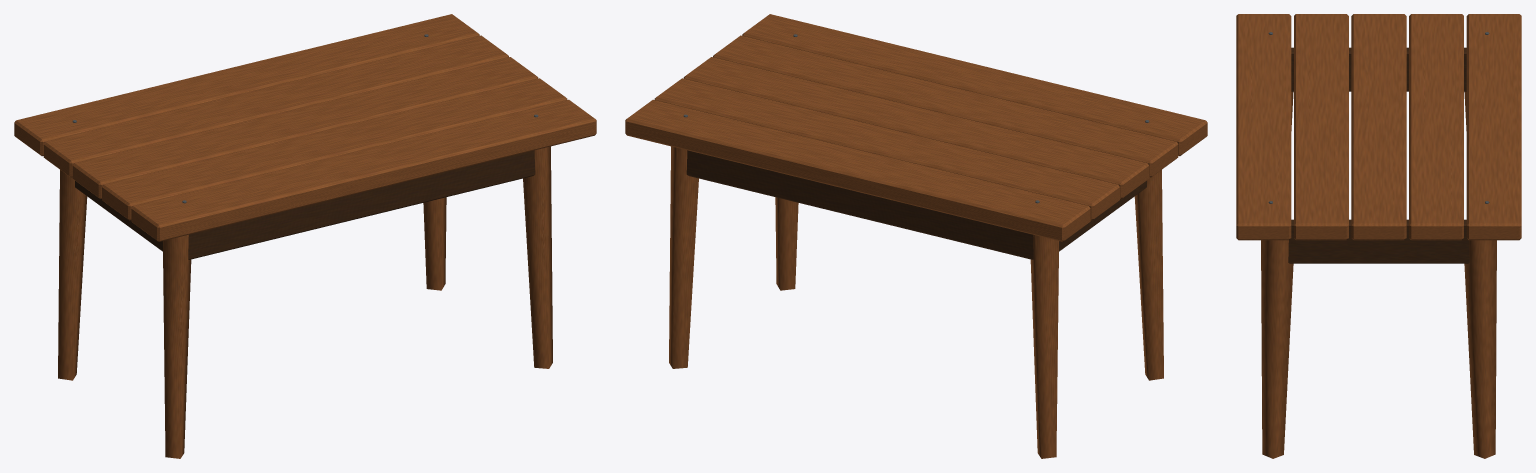
The model's file is table.glb.
3 renders of one model, left to right at view 1: azimuth 30°, elevation 25°; view 2: azimuth 150°, elevation 25°; view 3: azimuth 270°, elevation 25°, orthographic.
Parts seen in each view (by area): view 1: table; view 2: table; view 3: table.
Boxes of the visible parts, x1=… form: table: x1=14, y1=14, x2=596, y2=458; table: x1=625, y1=14, x2=1207, y2=458; table: x1=1236, y1=14, x2=1521, y2=458.
Size of the model in its own units: 1.4 by 0.77 by 0.8.
Materials: 3 (2 with a texture image).
